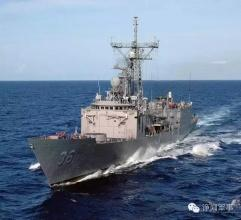warship: (29, 16, 197, 186)
